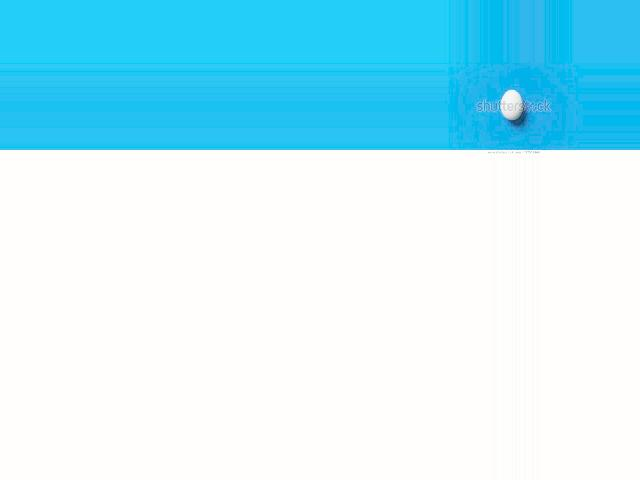egg: (501, 89, 523, 120)
